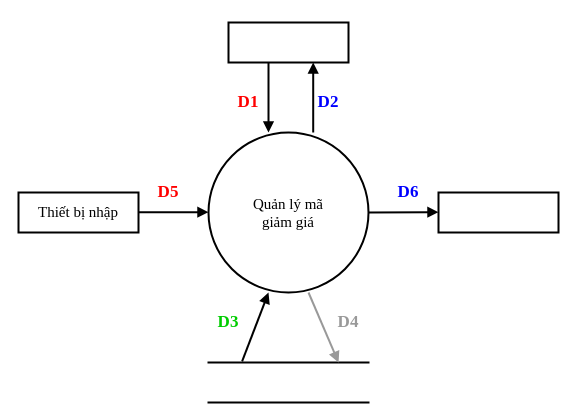
The diagram is 576 pixels wide and 420 high, and some of its shapes have lost their labels. Here are the shapes that lost their labels. From the top down, the box of each, then its label:
(227, 21, 349, 63): Nhân viên
(437, 191, 559, 233): Thiết bị xuất
